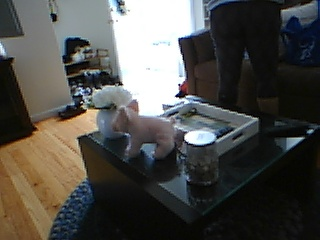piggy: (111, 98, 179, 161)
